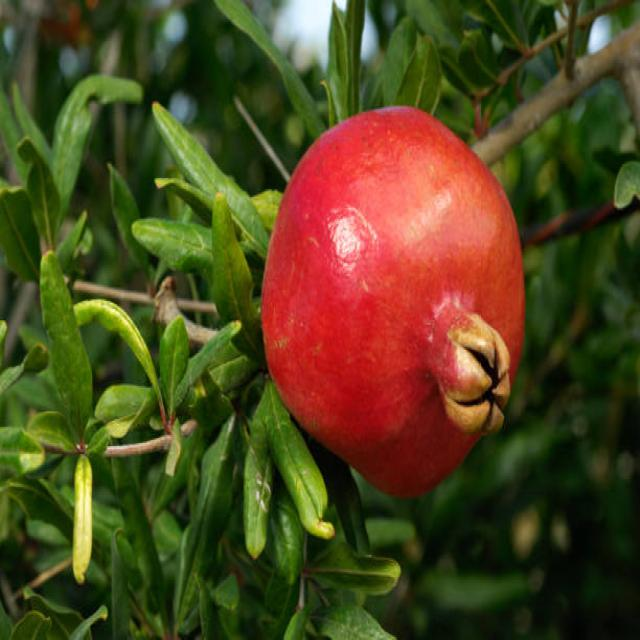Ripe: (259, 105, 529, 505)
